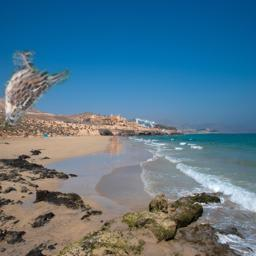Sparrow: (2, 50, 71, 129)
